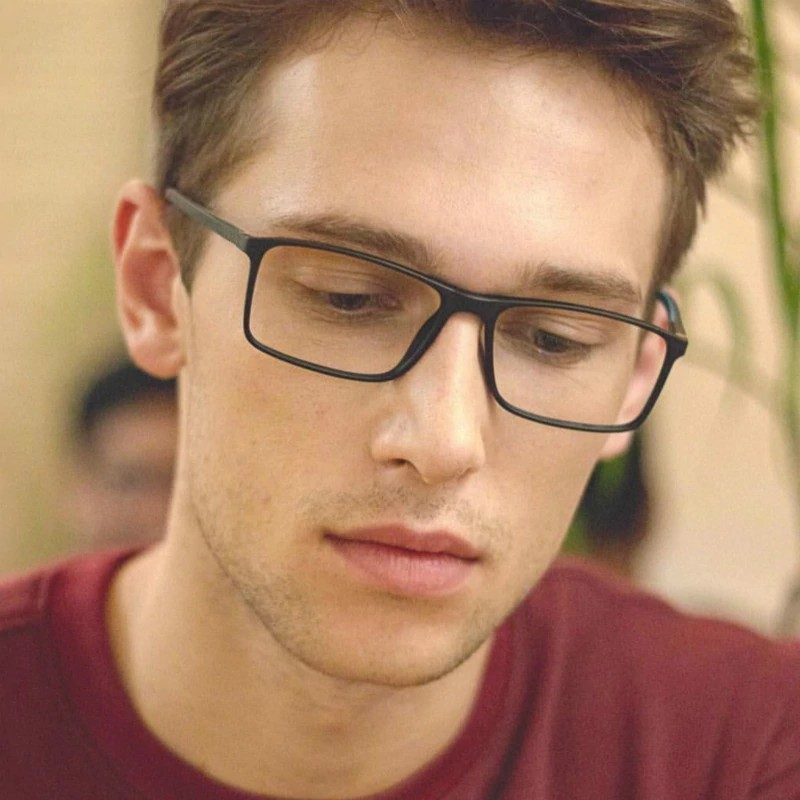BOY: (133, 5, 728, 664)
